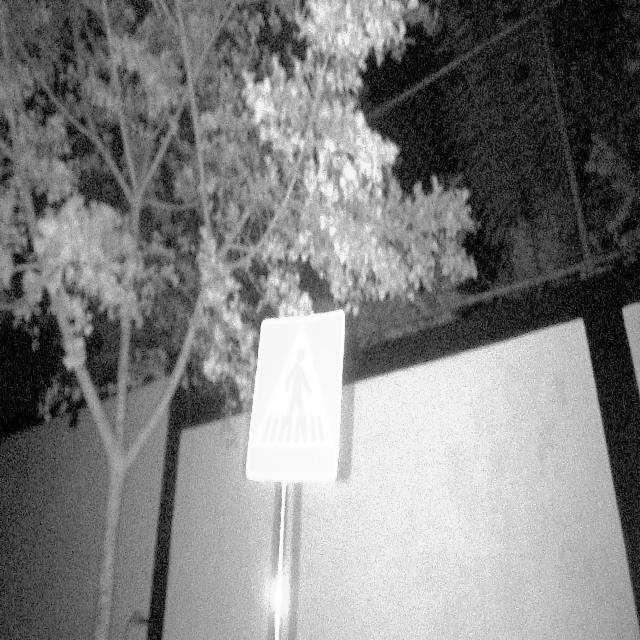Sign: (243, 308, 347, 486)
Tree: (44, 0, 214, 640)
